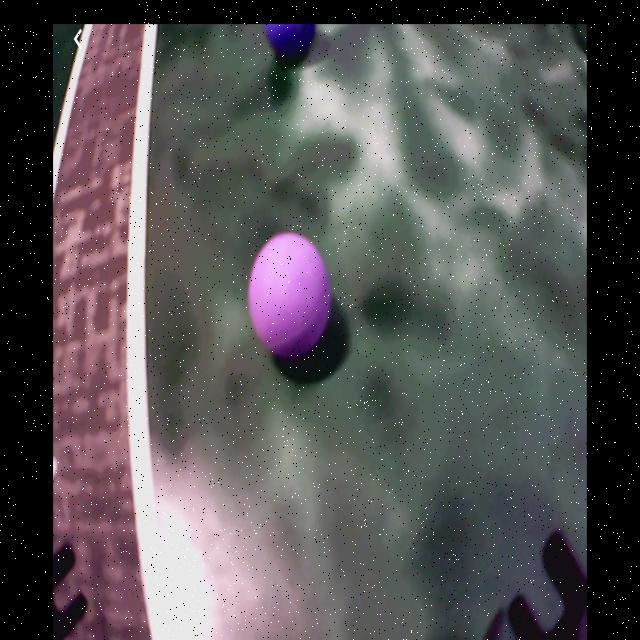ball: (249, 234, 333, 364), (266, 26, 317, 63)
